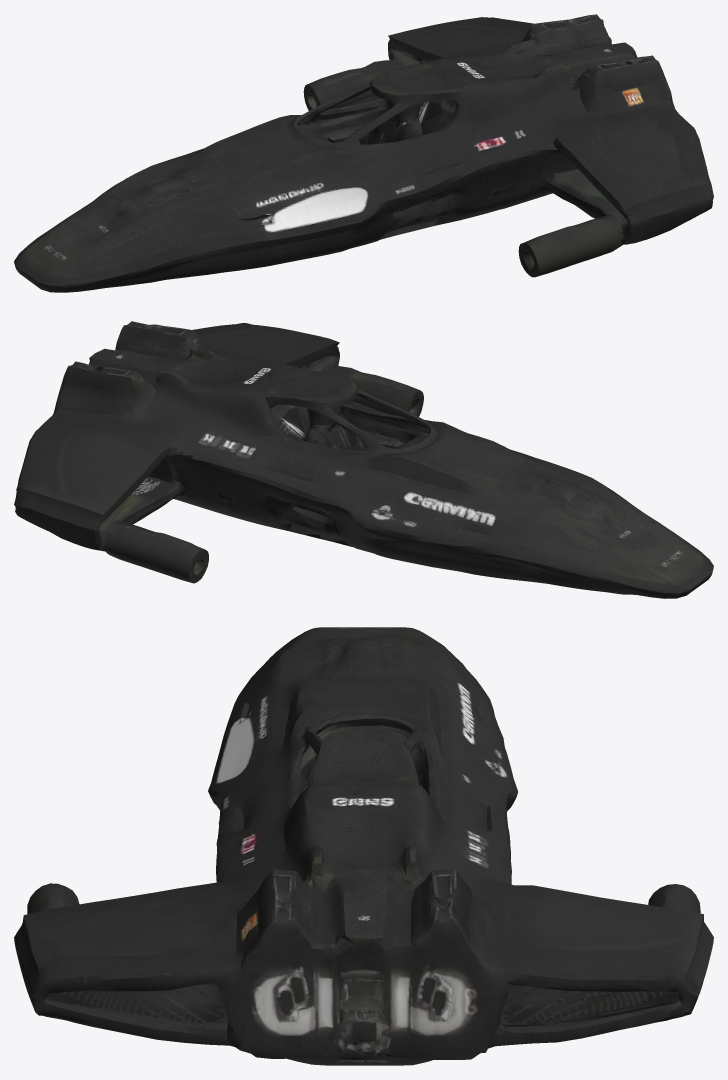
The model's file is ship11.glb.
3 renders of one model, top to bottom at view 1: azimuth 30°, elevation 25°; view 2: azimuth 150°, elevation 25°; view 3: azimuth 270°, elevation 25°, orthographic. The views are drawn at different scales.
Visible parts, largest first — view 1: Mesh0; view 2: Mesh0; view 3: Mesh0.
Part boxes in pixels (<box>): Mesh0: <box>14,14,713,292</box>; Mesh0: <box>14,321,713,598</box>; Mesh0: <box>14,627,713,1065</box>.
Size of the model in its own units: 1.91 by 0.4176 by 1.33.
Materials: 1 (1 with a texture image).
